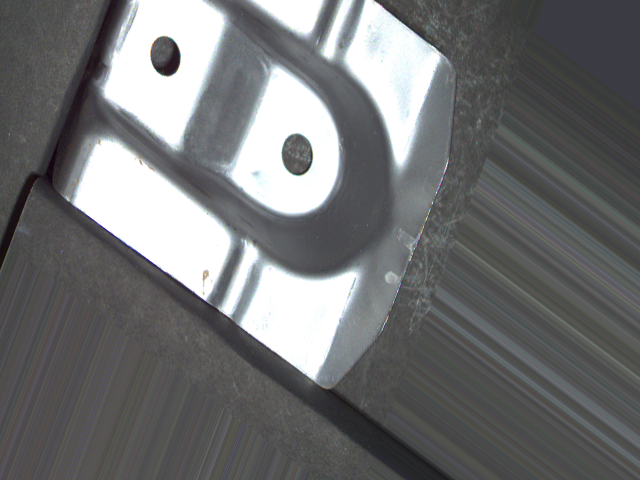defect: (276, 127, 318, 181)
